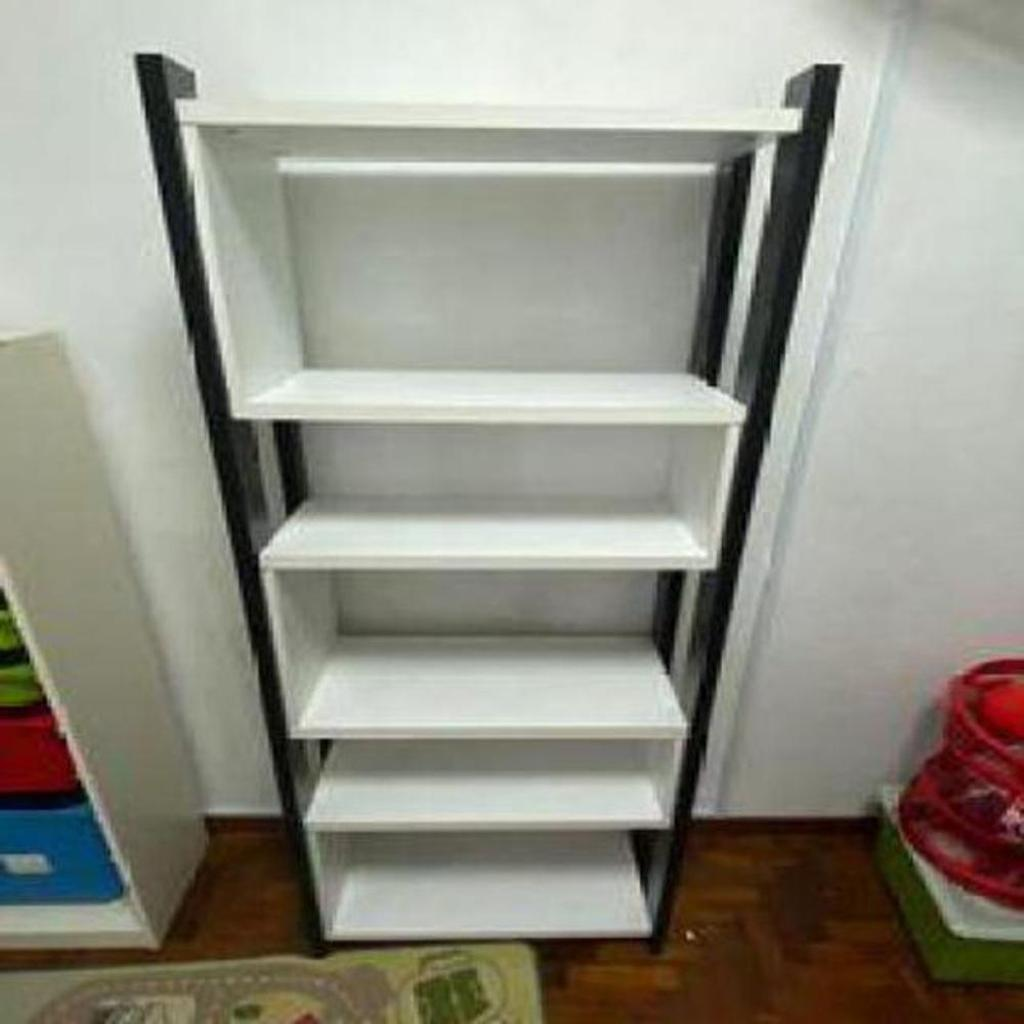lamp: (124, 48, 849, 964)
